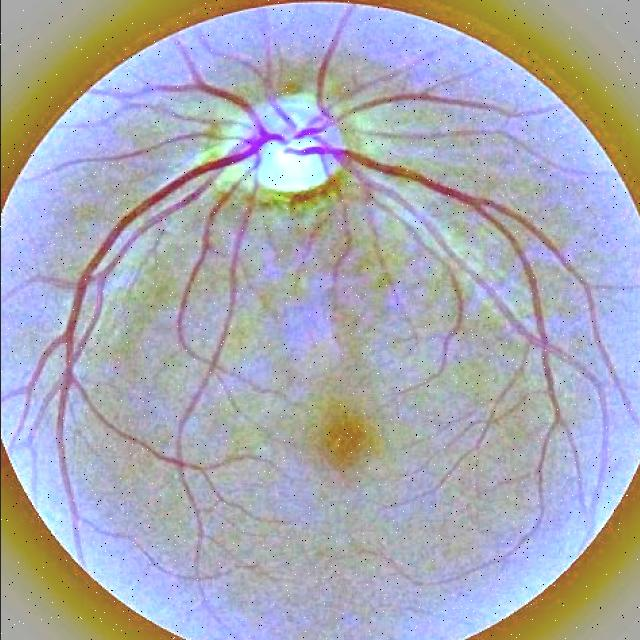Macula: (315, 401, 381, 471)
Nerves: (52, 134, 287, 553), (296, 144, 618, 430), (170, 150, 274, 513), (95, 44, 277, 131), (305, 90, 532, 130)
Optic Disk: (251, 96, 339, 193)
